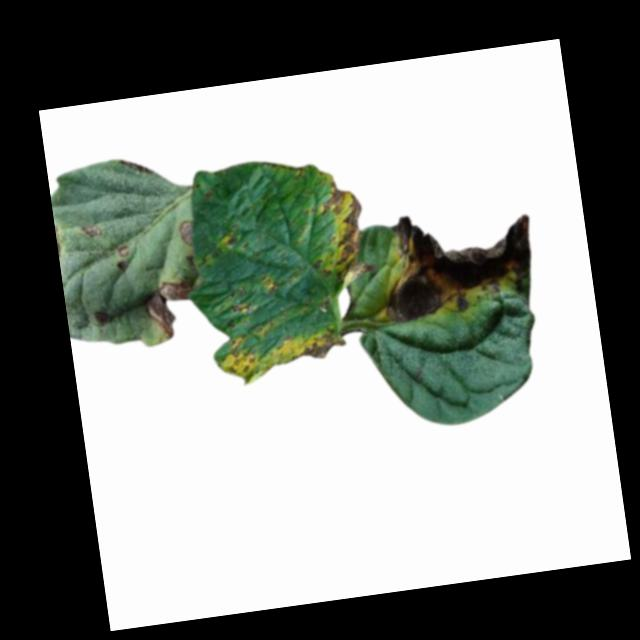Early_blight: (372, 195, 541, 324), (311, 177, 370, 288), (139, 276, 201, 341), (286, 325, 348, 362), (222, 332, 259, 377), (176, 218, 194, 246), (79, 221, 104, 239), (223, 230, 238, 247), (115, 241, 130, 257)
